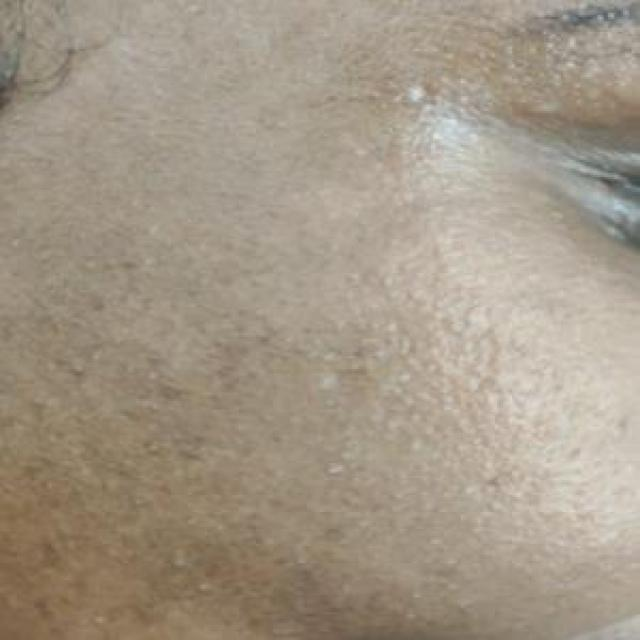Dry-Skin: (0, 262, 482, 640)
